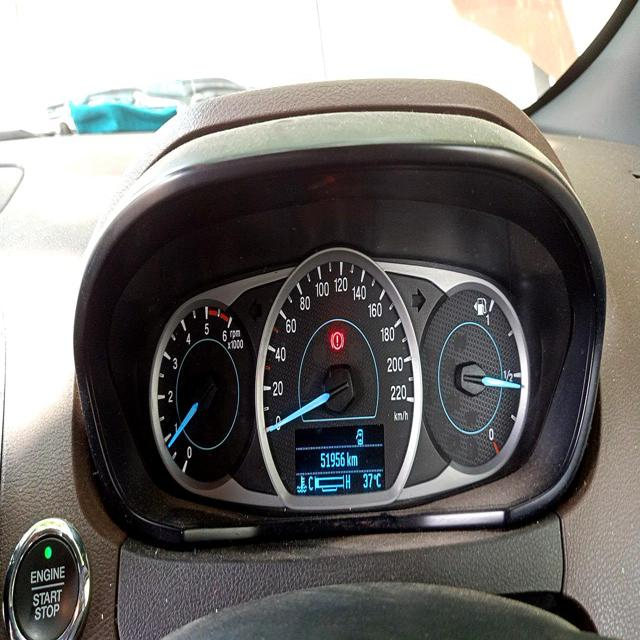odometer: (317, 448, 348, 471)
